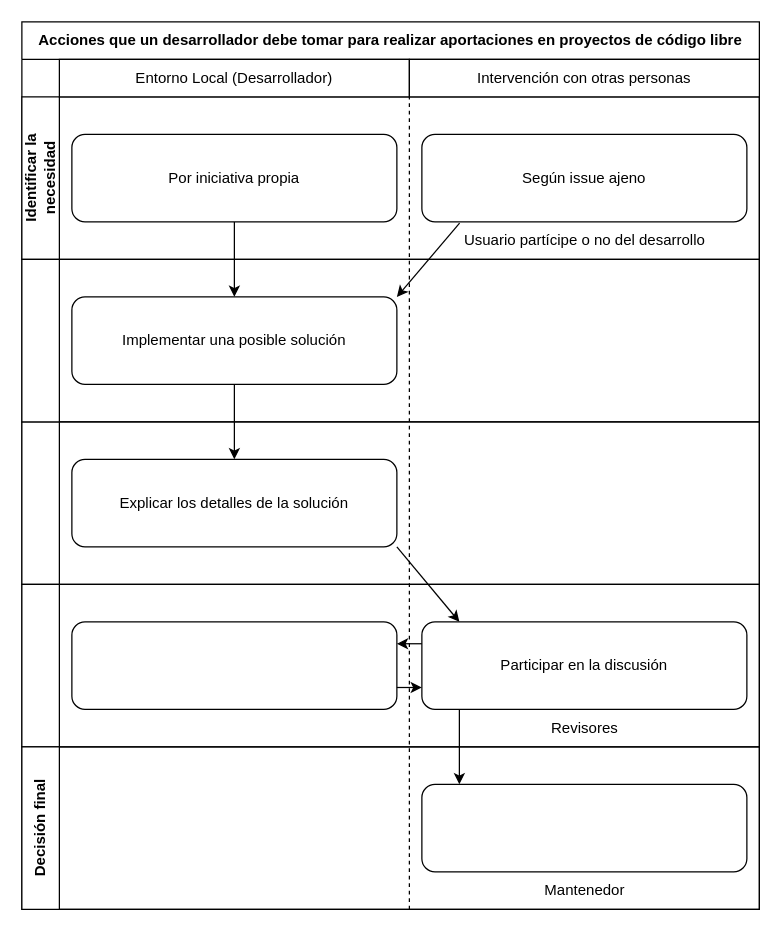
This 781x933 diagram has some shape labels left out. Here are the shapes that lost their labels. From the top down, the box of each, then its label:
(21, 258, 759, 422): Diseñar una solución editando código
(21, 421, 759, 584): Plantear propuesta públicamente
(71, 621, 397, 709): Aplicar cambios (si procede)
(21, 583, 759, 747): Revisión y retroalimentación
(421, 783, 747, 872): Esperar a que se acepten los cambios
